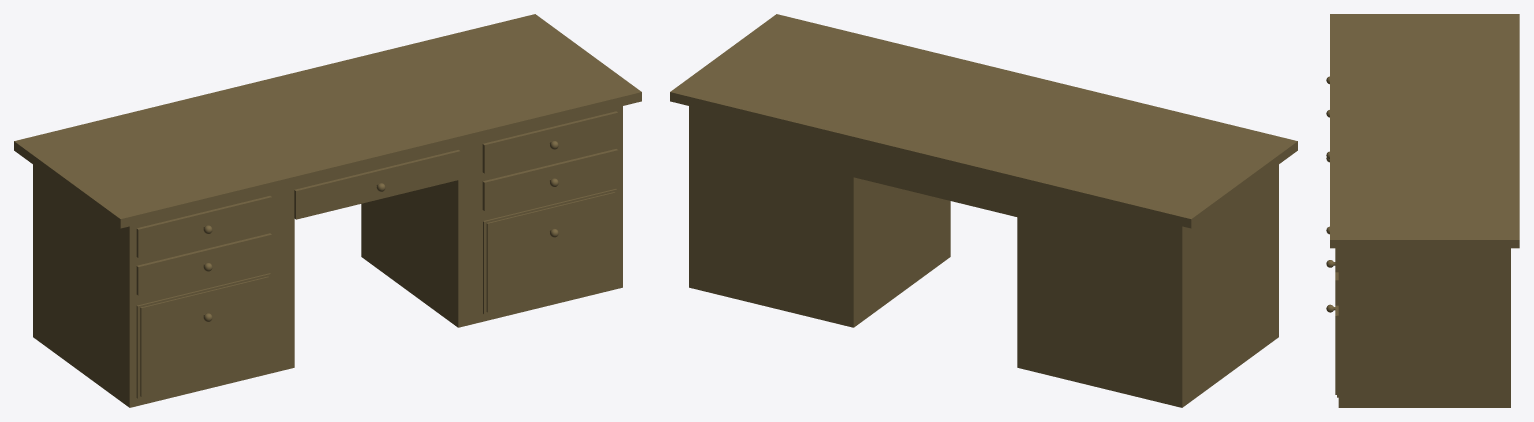
File: 3D_desk.fbx
3 renders of one model, left to right at view 1: azimuth 30°, elevation 25°; view 2: azimuth 150°, elevation 25°; view 3: azimuth 270°, elevation 25°, orthographic. The views are drawn at different scales.
Parts seen in each view (by area): view 1: desk_main, drawer_06, drawer_07, drawer_02, drawer_05, drawer_03, drawer_04, drawer_01; view 2: desk_main; view 3: desk_main, drawer_07, drawer_05.
Part boxes in pixels (bbox=[...]): desk_main: bbox=[14, 14, 641, 407]; drawer_06: bbox=[136, 273, 270, 398]; drawer_07: bbox=[483, 189, 617, 314]; drawer_02: bbox=[294, 150, 460, 219]; drawer_05: bbox=[482, 149, 618, 210]; drawer_03: bbox=[482, 111, 618, 173]; drawer_04: bbox=[136, 233, 271, 295]; drawer_01: bbox=[136, 196, 271, 257]; desk_main: bbox=[670, 14, 1297, 407]; desk_main: bbox=[1330, 14, 1519, 407]; drawer_07: bbox=[1326, 304, 1338, 397]; drawer_05: bbox=[1326, 260, 1338, 305].
Size of the model in its own units: 581 by 208 by 210.
